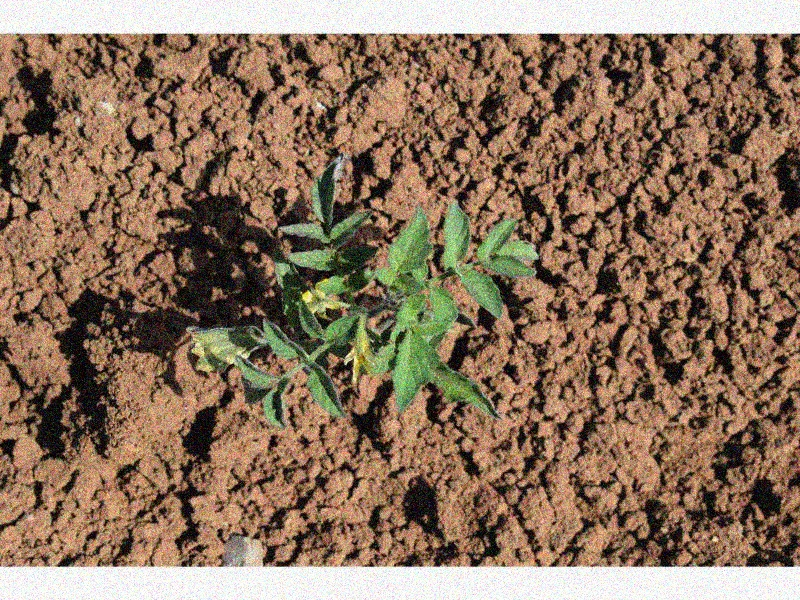tomato: (228, 156, 540, 429)
